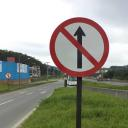NoSeguir: (48, 17, 108, 77), (5, 72, 12, 79)
